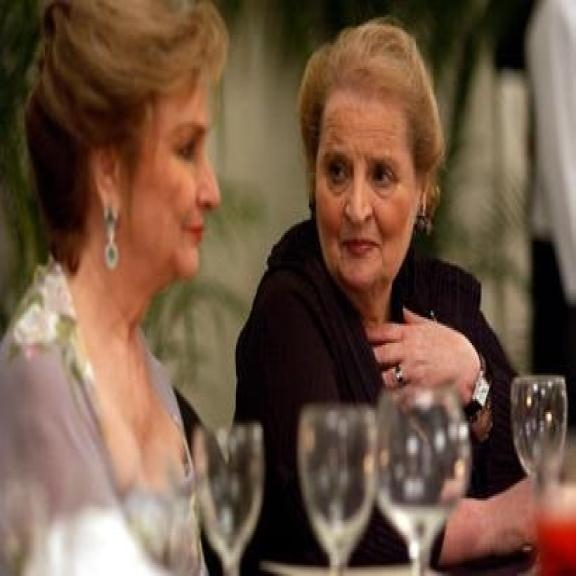face: (91, 64, 223, 284), (307, 84, 431, 289)
